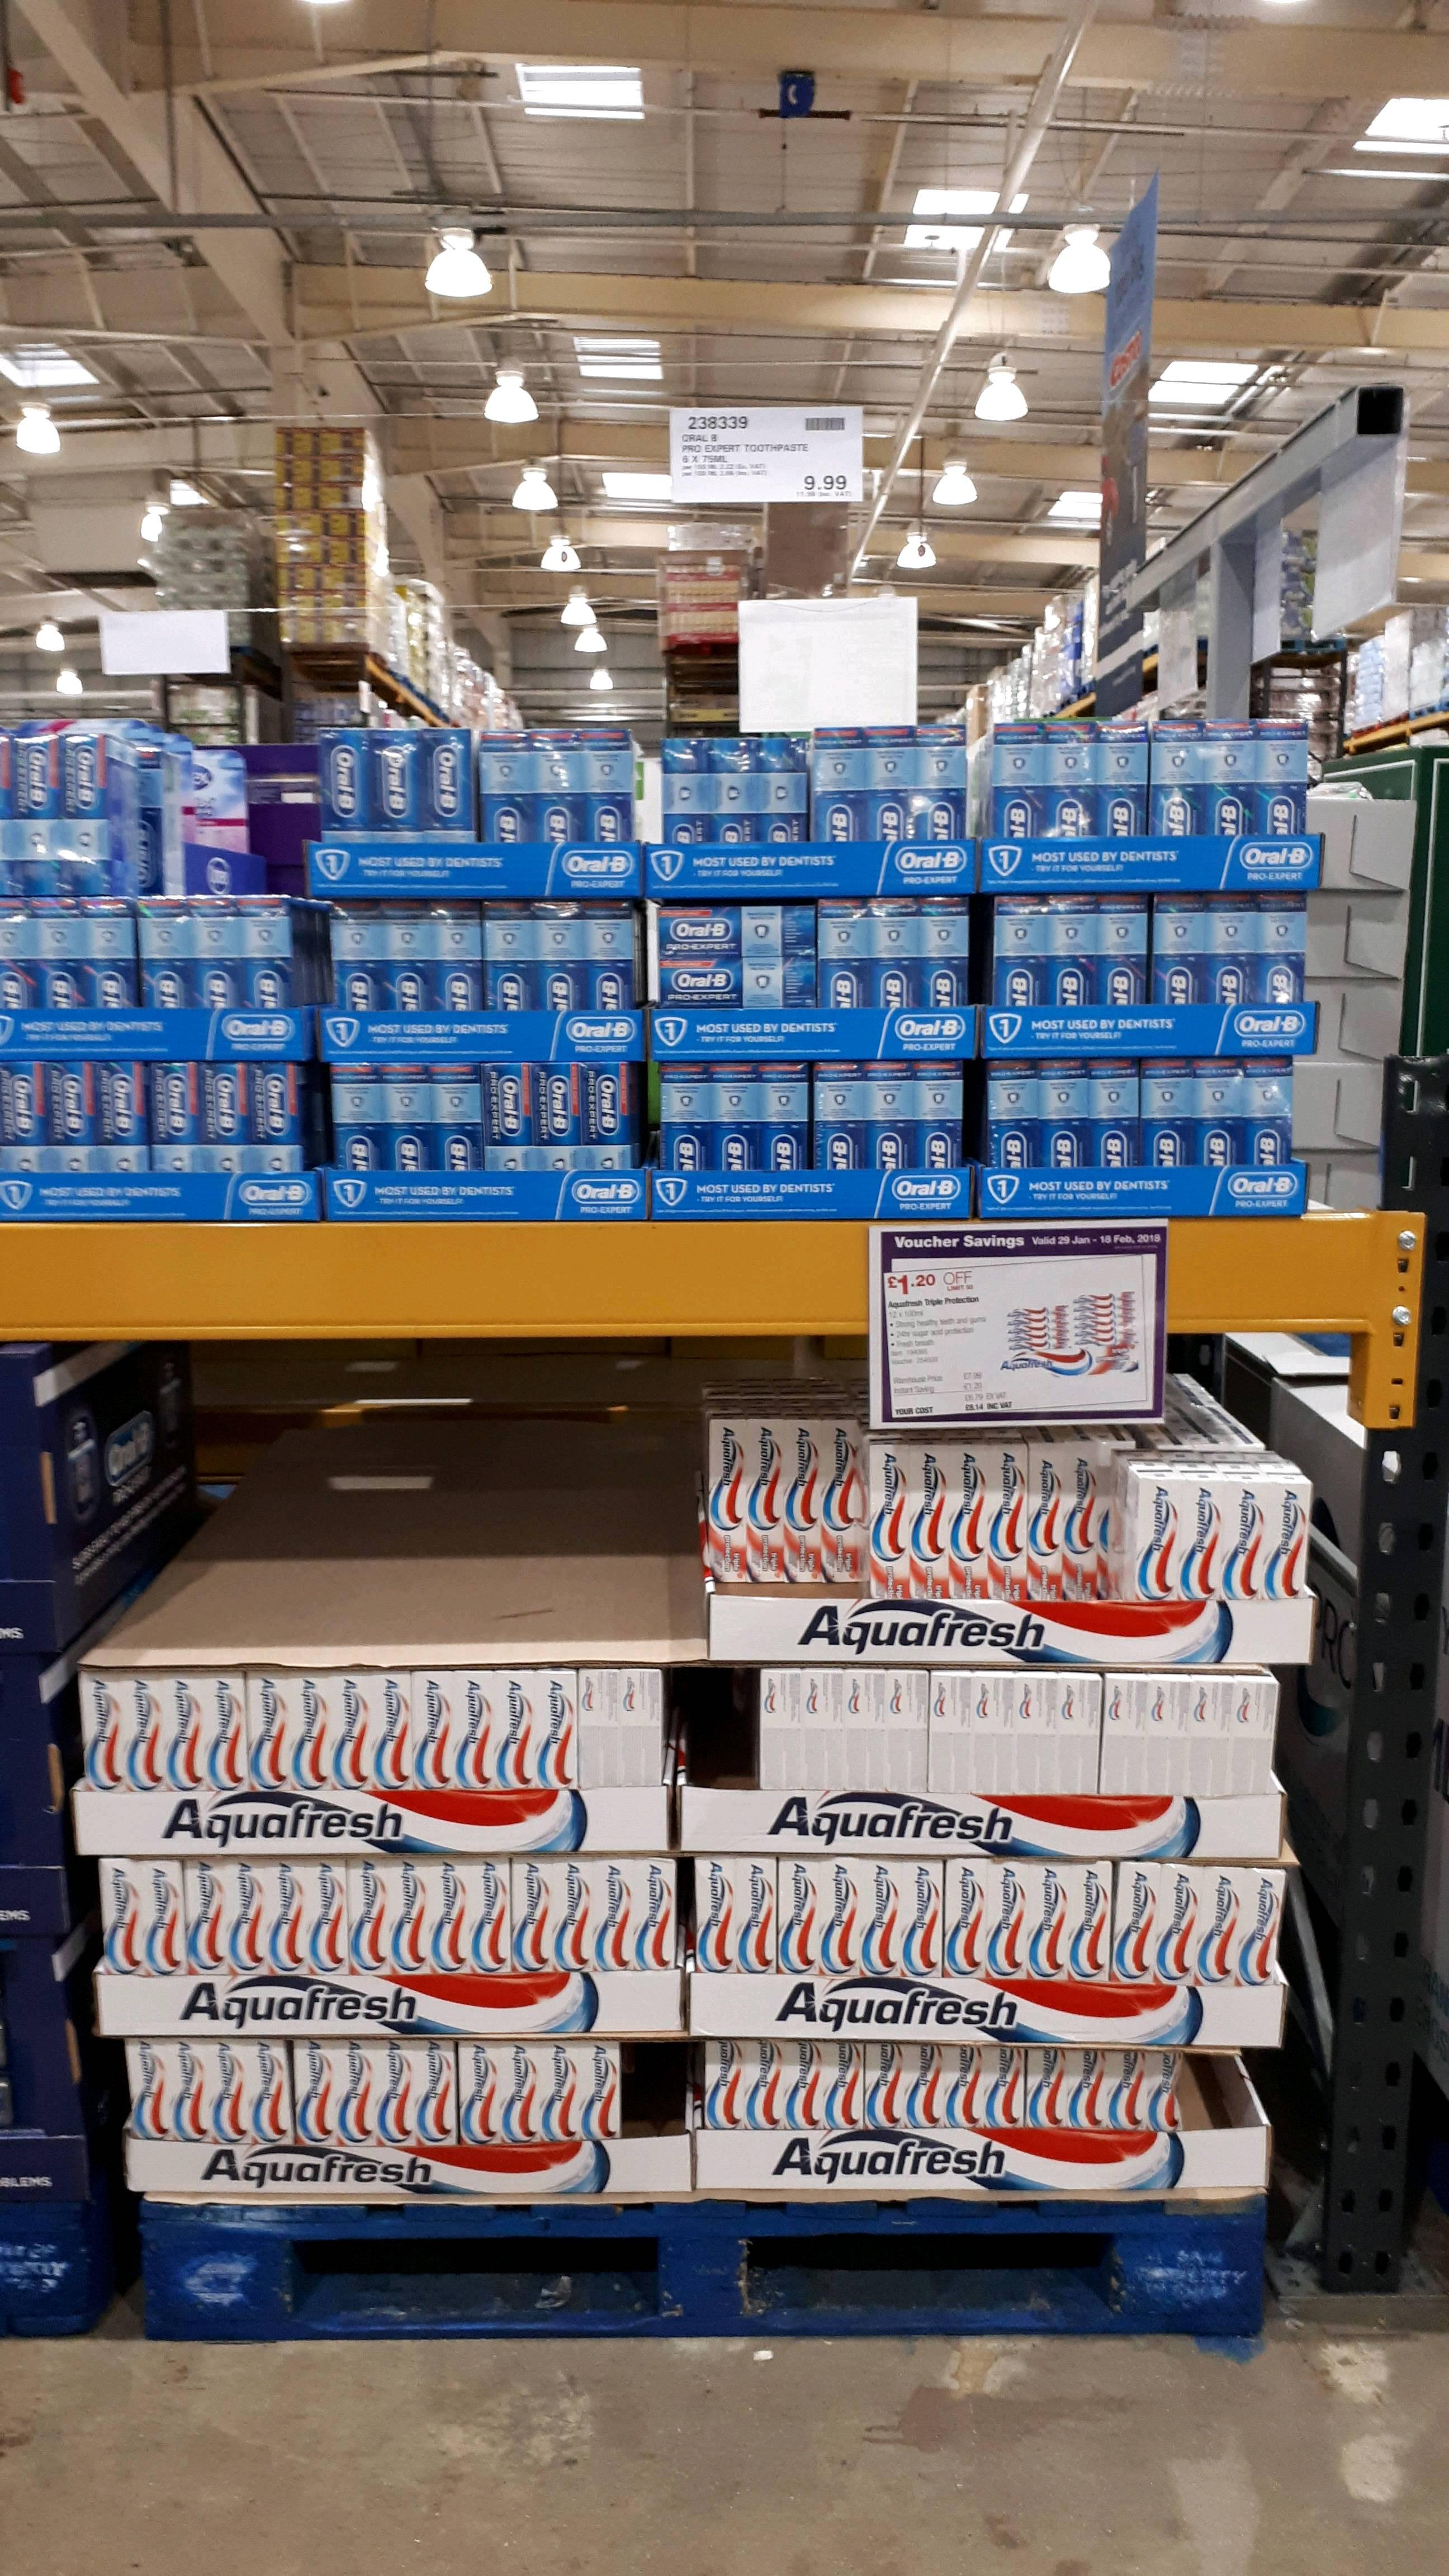empty: (119, 1355, 697, 1635), (688, 1674, 750, 1794), (628, 2045, 688, 2141), (1192, 2049, 1261, 2130)
misalignment: (471, 727, 640, 844), (481, 1063, 637, 1175), (655, 908, 821, 1010)
